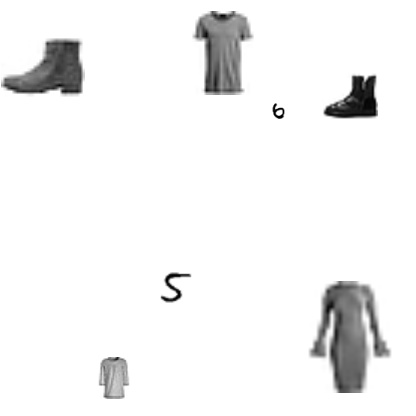5: (152, 265, 194, 307)
6: (267, 101, 289, 123)
Ankle_boot: (1, 24, 85, 108), (322, 68, 378, 124)
Dress: (294, 281, 406, 393), (93, 357, 135, 399)
T-shirt/top: (181, 11, 265, 95)
